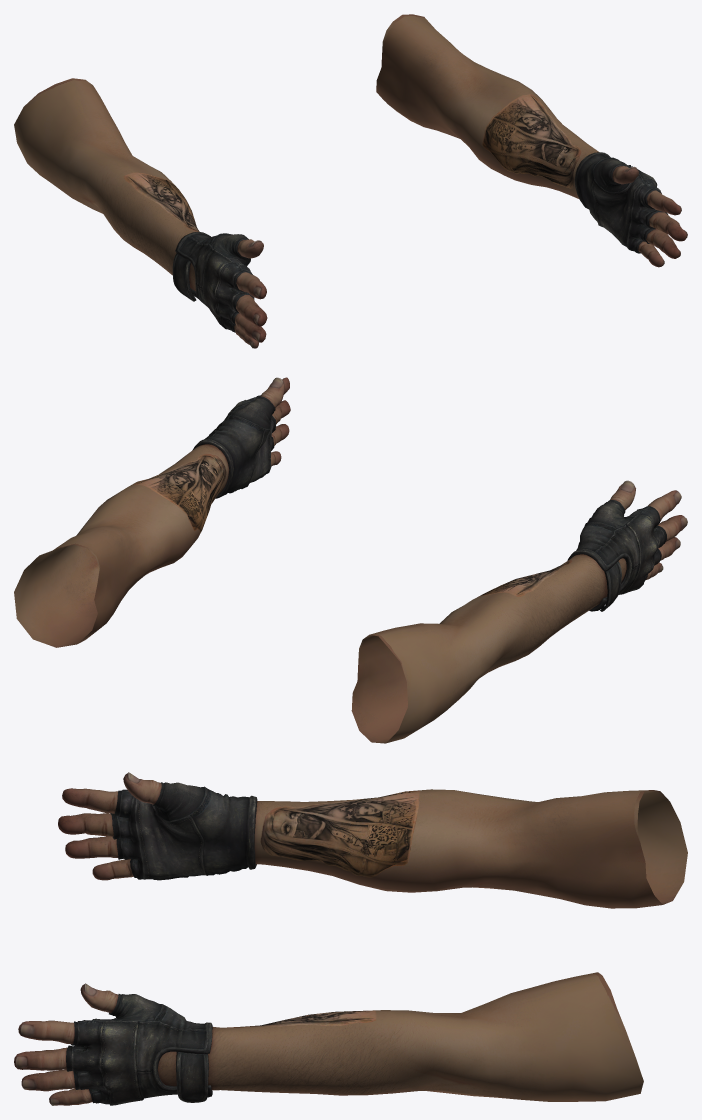
Rendered from rence.obj.
The picture shows the model from 3 angles, top to bottom: view 1: azimuth 30°, elevation 25°; view 2: azimuth 150°, elevation 25°; view 3: azimuth 270°, elevation 25°; orthographic projection. The views are drawn at different scales.
Visible parts, largest first — view 1: models\weapons\v_models\arms\v_, models\weapons\v_models\arms\t_; view 2: models\weapons\v_models\arms\v_, models\weapons\v_models\arms\t_; view 3: models\weapons\v_models\arms\v_, models\weapons\v_models\arms\t_.
Boxes of the visible parts, x1=… form: models\weapons\v_models\arms\v_: x1=14, y1=14, x2=687, y2=348; models\weapons\v_models\arms\t_: x1=172, y1=152, x2=667, y2=332; models\weapons\v_models\arms\v_: x1=14, y1=377, x2=687, y2=743; models\weapons\v_models\arms\t_: x1=192, y1=395, x2=666, y2=611; models\weapons\v_models\arms\v_: x1=14, y1=772, x2=687, y2=1105; models\weapons\v_models\arms\t_: x1=66, y1=782, x2=257, y2=1105.
Size of the model in its own units: 27.29 by 5.99 by 30.66.
